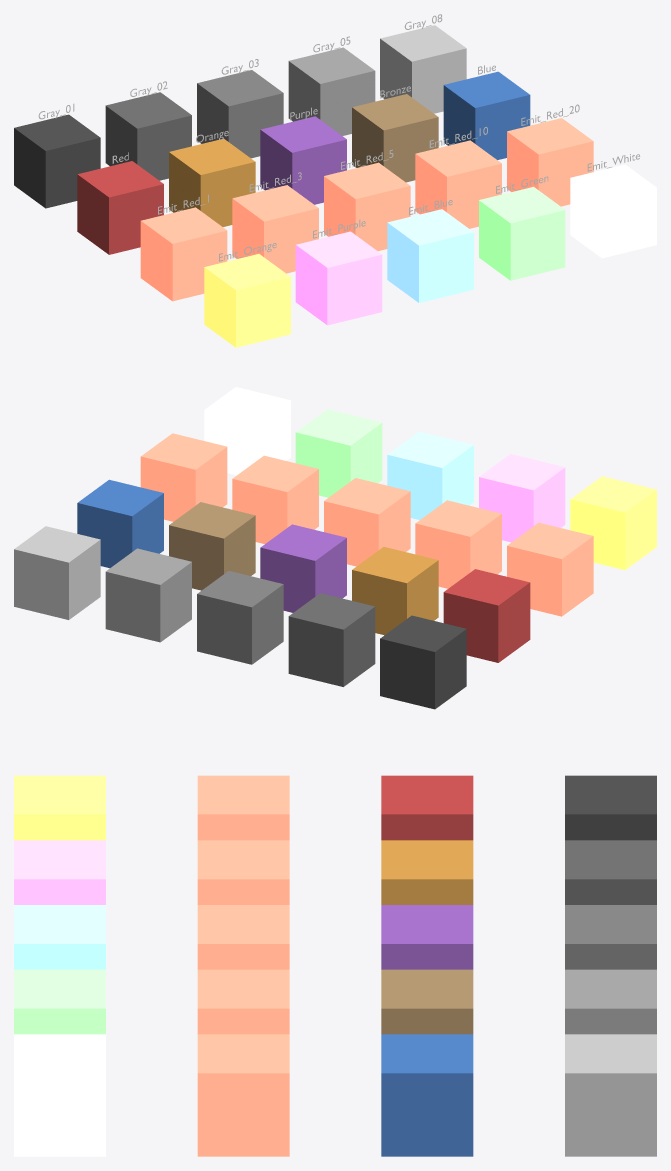
3 renders of one model, top to bottom at view 1: azimuth 30°, elevation 25°; view 2: azimuth 150°, elevation 25°; view 3: azimuth 270°, elevation 25°, orthographic. The views are drawn at different scales.
Visible parts, largest first — view 1: Emit_Purple, Emit_White, Emit_Orange, Emit_Blue, Emit_Green, Emit_Red_1, Gray_01, Red, Gray_05, Gray_08, Blue, Gray_02 (+8 smaller); view 2: Gray_02, Gray_01, Gray_05, Gray_03, Gray_08, Red, Emit_Red_1, Emit_Orange, Emit_Red_20, Emit_Green, Emit_Purple, Emit_Red_3 (+8 smaller); view 3: Blue, Emit_Red_20, Gray_08, Emit_White, Red, Bronze, Emit_Red_1, Emit_Red_10, Gray_01, Gray_05, Emit_Orange, Emit_Green (+8 smaller).
Boxes of the visible parts, x1,y1,x2,y2 form: Emit_Purple: (295,231,382,325); Emit_White: (570,164,656,258); Emit_Orange: (204,254,290,347); Emit_Blue: (387,209,473,302); Emit_Green: (479,186,565,280); Emit_Red_1: (140,207,227,301); Gray_01: (14,114,100,208); Red: (77,161,163,254); Gray_05: (288,47,375,135); Gray_08: (380,25,466,113); Blue: (443,71,530,159); Gray_02: (105,92,191,180); Gray_02: (288,593,375,686); Gray_01: (380,615,466,709); Gray_05: (105,548,191,642); Gray_03: (197,571,283,664); Gray_08: (14,526,100,619); Red: (443,569,530,662); Emit_Red_1: (507,522,593,616); Emit_Orange: (570,476,656,569); Emit_Red_20: (140,433,227,521); Emit_Green: (295,409,382,497); Emit_Purple: (479,454,565,542); Emit_Red_3: (415,500,501,588); Blue: (381,1034,473,1156); Emit_Red_20: (197,1034,289,1156); Gray_08: (565,1034,656,1156); Emit_White: (14,1034,105,1156); Red: (381,775,473,840); Bronze: (381,969,473,1034); Emit_Red_1: (197,775,289,840); Emit_Red_10: (197,969,289,1034); Gray_01: (565,775,656,840); Gray_05: (565,969,656,1034); Emit_Orange: (14,775,105,840); Emit_Green: (14,969,105,1034).
Bounding box in the file's own units: 11.59 × 2.16 × 10.5.
